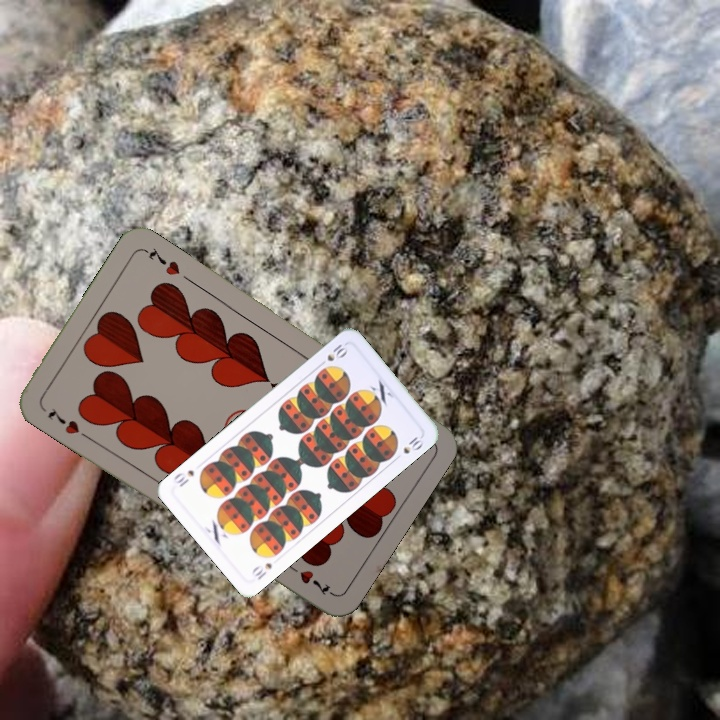H7: (43, 404, 82, 437)
S10: (315, 340, 350, 369), (247, 559, 275, 583)
